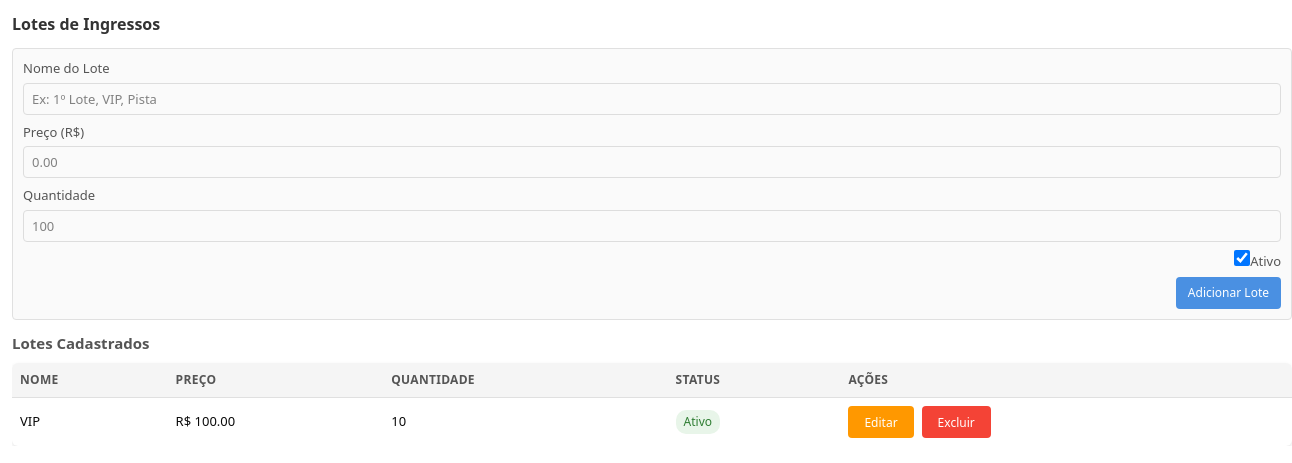
Test: TicketLotManager › cancelar edição: volta para modo adicionar e limpa o form
Expected: the text "VIP" is shown, [12,397,168,446]
Expected: the button "Adicionar Lote" is enabled, [1176,277,1281,309]
Click the button "Editar" at (881, 422), box [848,406,914,438]
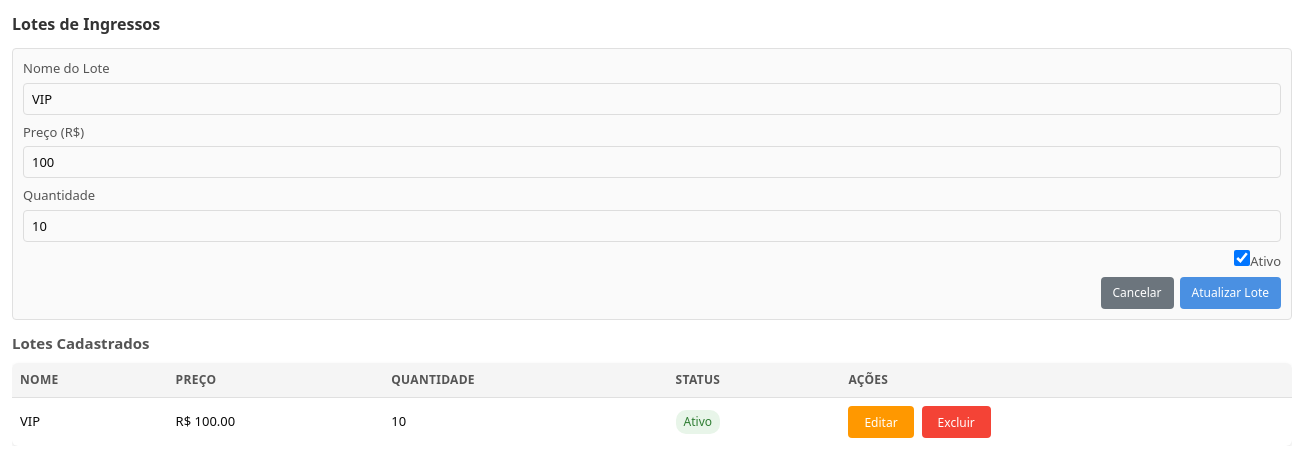
Click the button "Cancelar" at (1137, 293), box [1100,277,1174,309]
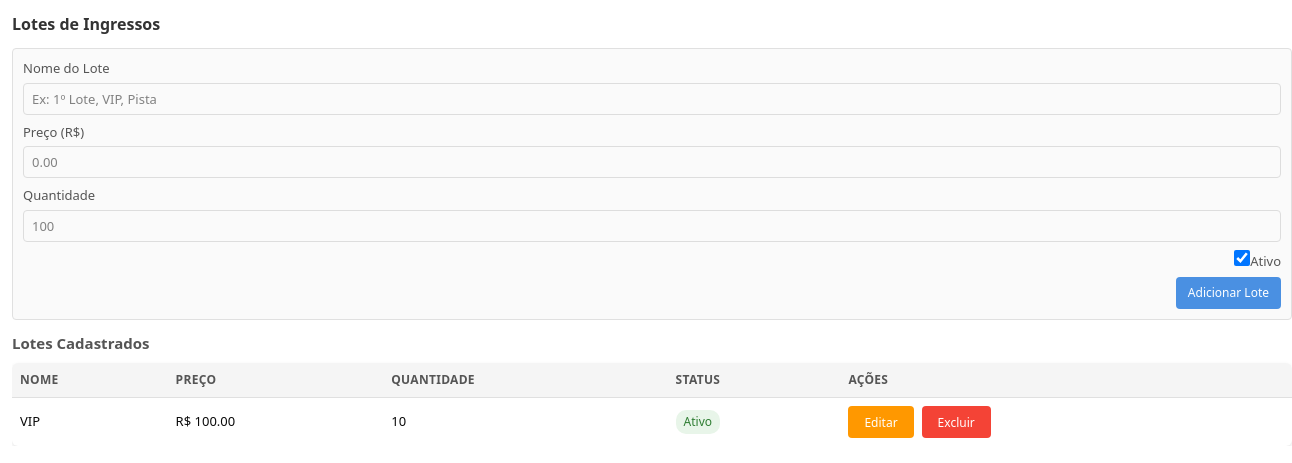
Result: the button "Adicionar Lote" is shown at [1176,277,1281,309]
Result: the field with placeholder "Ex: 1º Lote, VIP, Pista" is empty at [23,82,1281,114]
